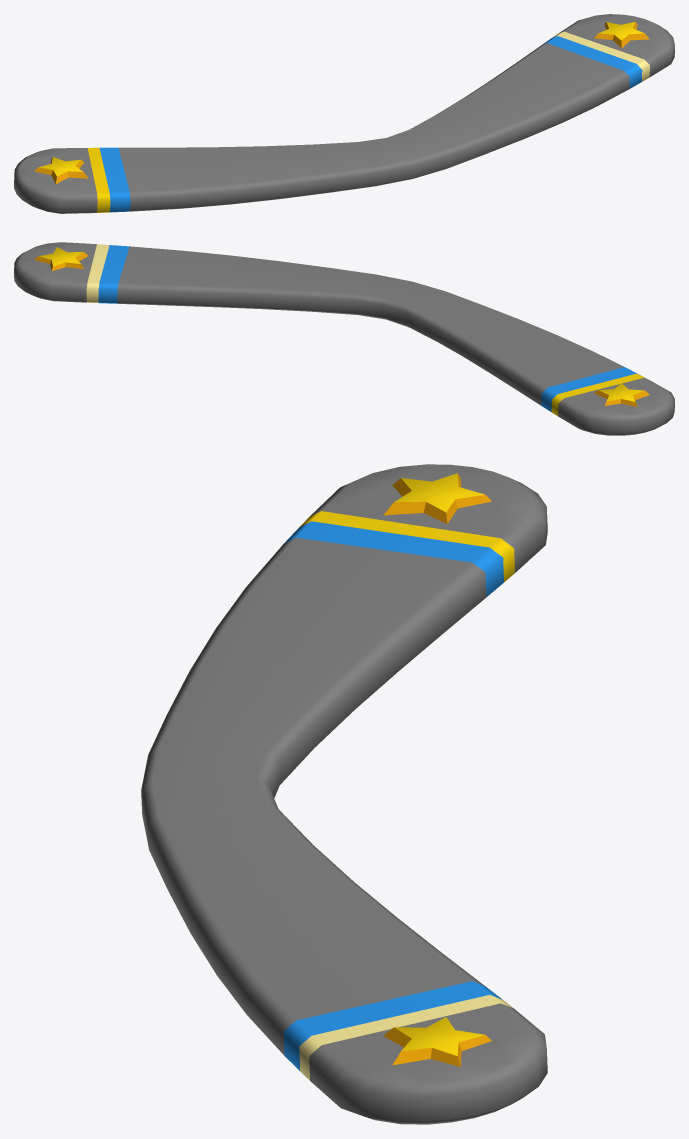
The model's file is weapon_bumerang.fbx.
3 renders of one model, top to bottom at view 1: azimuth 30°, elevation 25°; view 2: azimuth 150°, elevation 25°; view 3: azimuth 270°, elevation 25°, orthographic. The views are drawn at different scales.
Parts seen in each view (by area): view 1: Weapon_Bumerang; view 2: Weapon_Bumerang; view 3: Weapon_Bumerang.
Boxes of the visible parts, bbox=[...] form: Weapon_Bumerang: bbox=[14, 14, 674, 213]; Weapon_Bumerang: bbox=[14, 242, 674, 435]; Weapon_Bumerang: bbox=[141, 464, 547, 1124].
Bounding box in the file's own units: 30.98 × 1.33 × 8.46.
